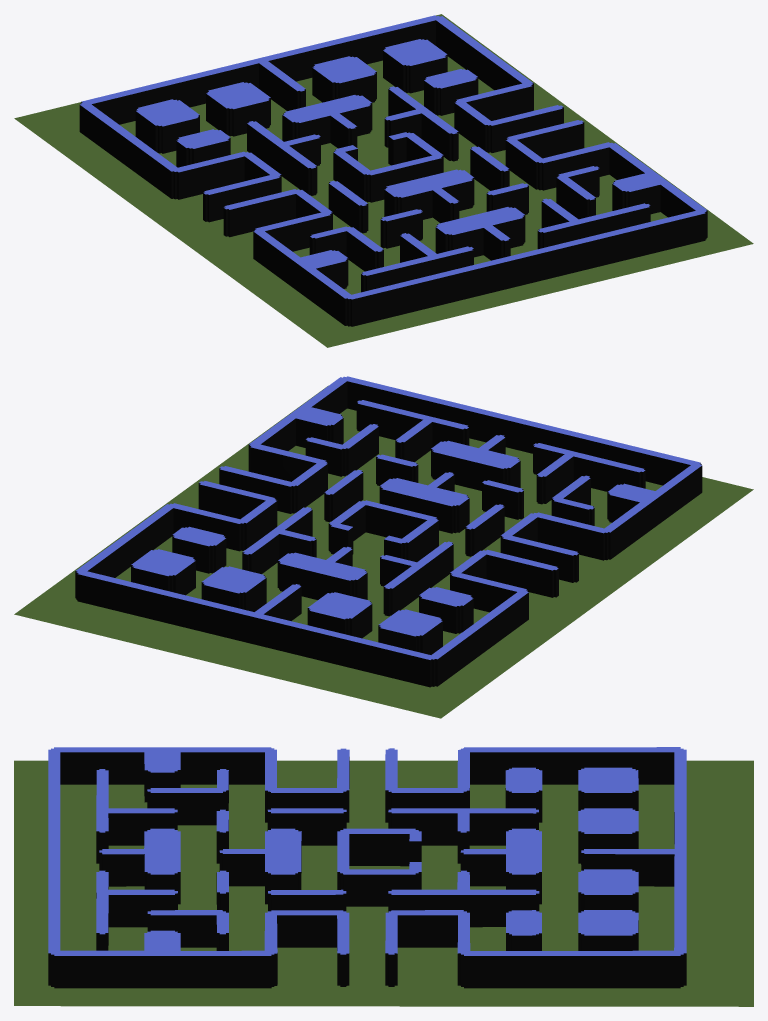
File: maze.dae
3 renders of one model, top to bottom at view 1: azimuth 30°, elevation 25°; view 2: azimuth 150°, elevation 25°; view 3: azimuth 270°, elevation 25°, orthographic. The views are drawn at different scales.
Visible parts, largest first — view 1: 13.2.163.0_zeimport_poly5_XSIPOLYCLS.maze_0, 13.2.163.0_zeimport_poly_XSIPOLYCLS.board_0, 13.2.163.0_zeimport_poly84_XSIPOLYCLS.main_0; view 2: 13.2.163.0_zeimport_poly5_XSIPOLYCLS.maze_0, 13.2.163.0_zeimport_poly_XSIPOLYCLS.board_0, 13.2.163.0_zeimport_poly84_XSIPOLYCLS.main_0; view 3: 13.2.163.0_zeimport_poly_XSIPOLYCLS.board_0, 13.2.163.0_zeimport_poly5_XSIPOLYCLS.maze_0, 13.2.163.0_zeimport_poly84_XSIPOLYCLS.main_0.
Boxes of the visible parts, box(x1,y1,x2,y2) form: 13.2.163.0_zeimport_poly5_XSIPOLYCLS.maze_0: box(79, 20, 707, 326); 13.2.163.0_zeimport_poly_XSIPOLYCLS.board_0: box(14, 14, 753, 347); 13.2.163.0_zeimport_poly84_XSIPOLYCLS.main_0: box(80, 15, 707, 299); 13.2.163.0_zeimport_poly5_XSIPOLYCLS.maze_0: box(75, 381, 702, 687); 13.2.163.0_zeimport_poly_XSIPOLYCLS.board_0: box(14, 385, 753, 718); 13.2.163.0_zeimport_poly84_XSIPOLYCLS.main_0: box(76, 376, 701, 659); 13.2.163.0_zeimport_poly_XSIPOLYCLS.board_0: box(14, 760, 753, 1006); 13.2.163.0_zeimport_poly5_XSIPOLYCLS.maze_0: box(48, 752, 686, 988); 13.2.163.0_zeimport_poly84_XSIPOLYCLS.main_0: box(48, 747, 686, 955).
Size of the model in its own units: 107 by 136 by 6.76.
3 materials, 3 textured.
